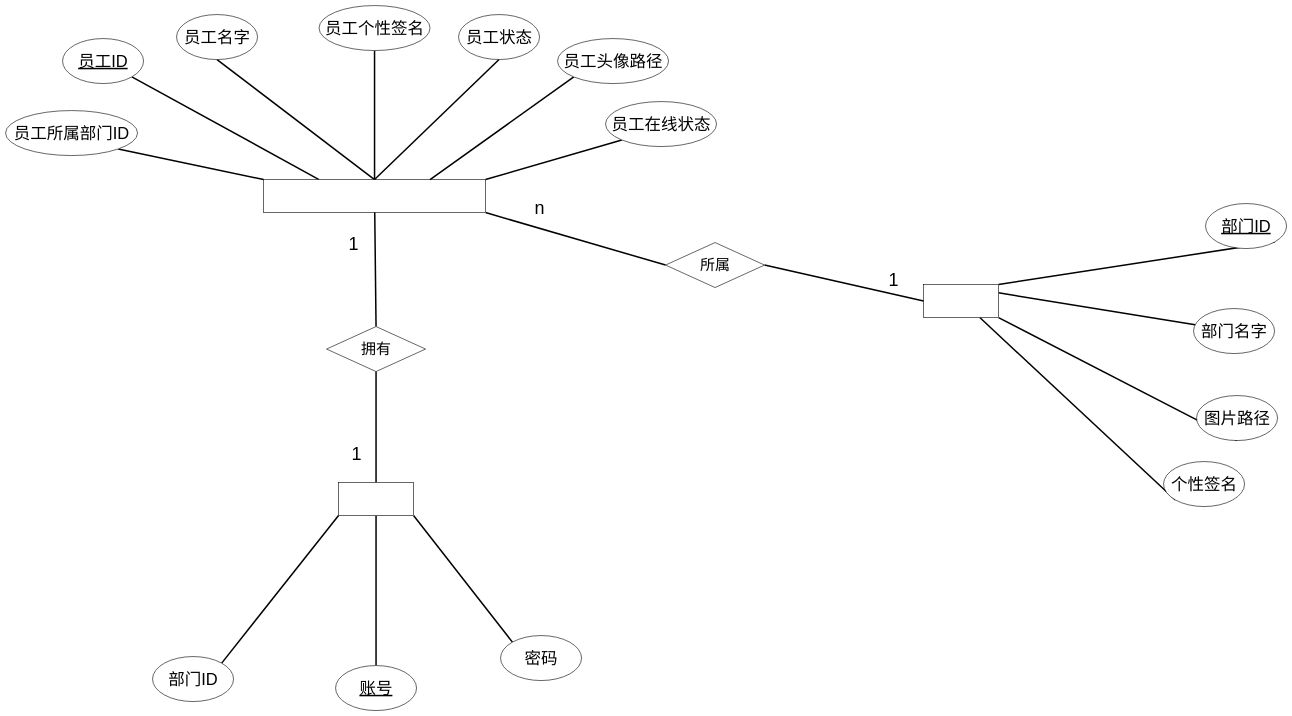
Image size: 1292x716. Some labels were removed from this diagram. The box of each missing label's shape, as (x1, y1, x2, y2) in pixels:
员工信息表: (263, 179, 486, 213)
账号表: (338, 482, 414, 516)
部门表: (923, 284, 999, 318)
